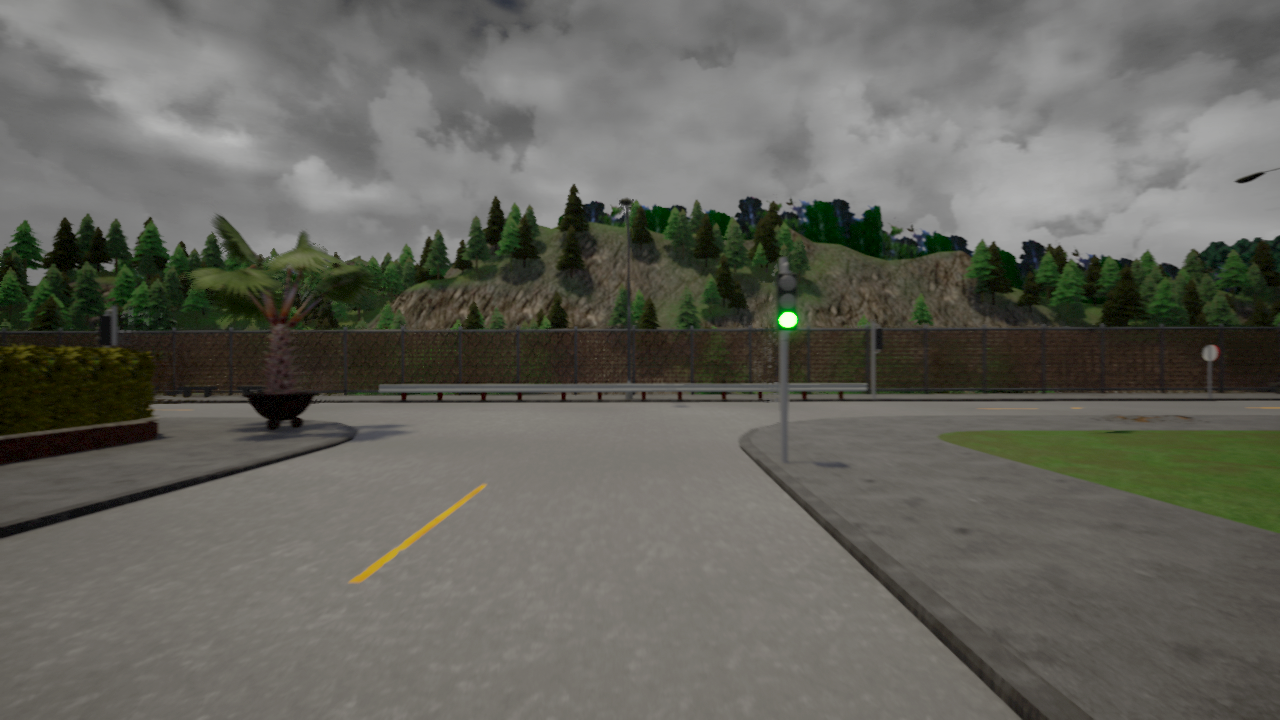green: (775, 270, 800, 334)
